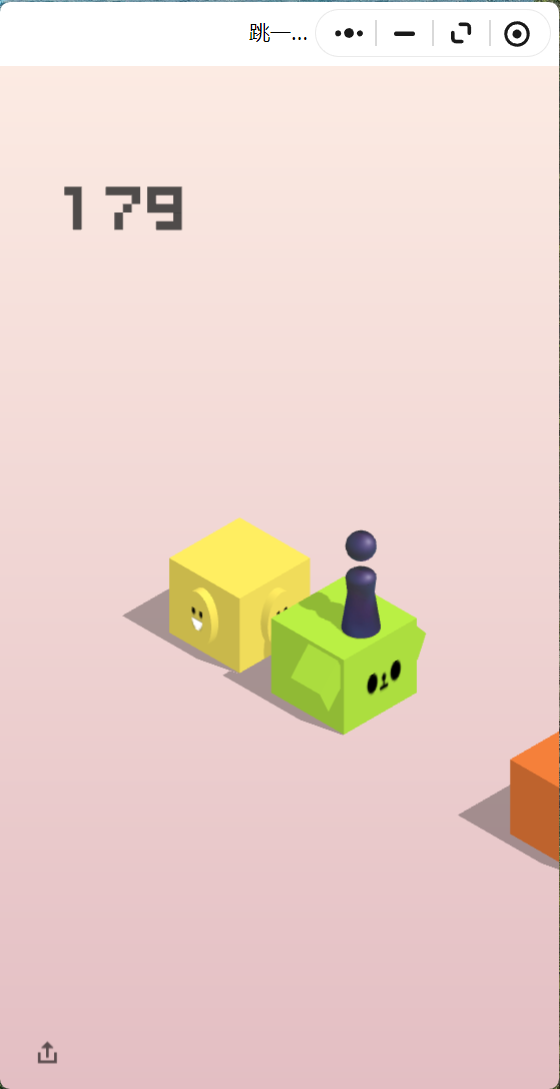piece: (346, 530, 377, 634)
target: (170, 517, 310, 598)
